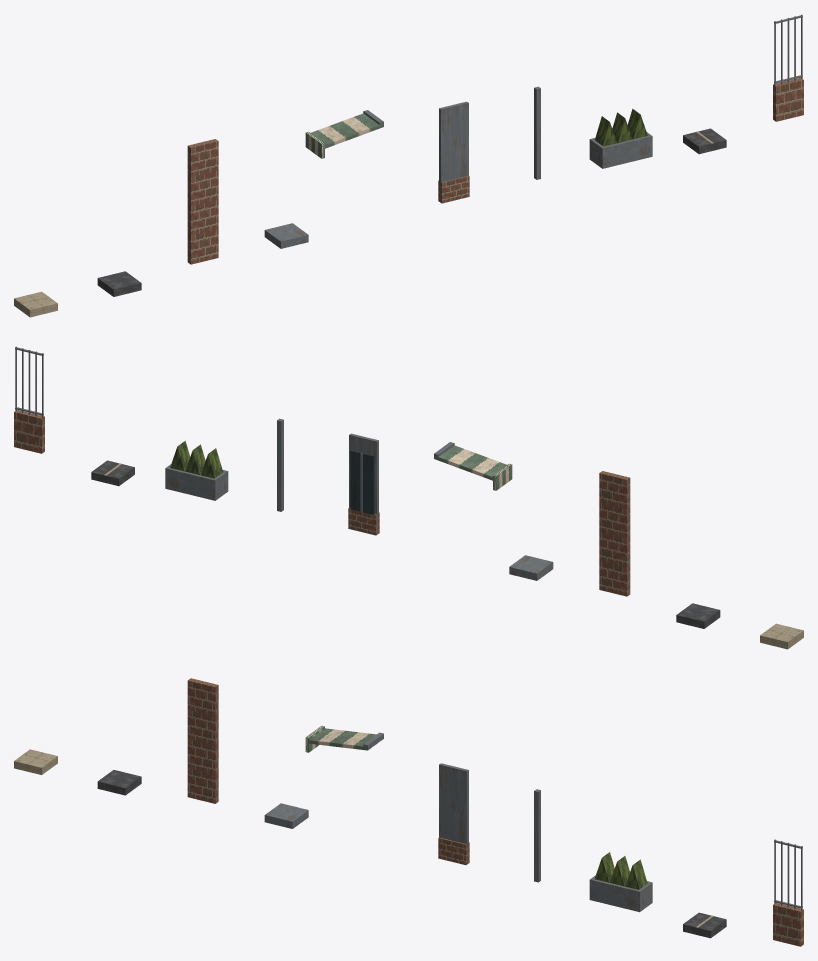
The model's file is gridset.glb.
3 renders of one model, top to bottom at view 1: azimuth 30°, elevation 25°; view 2: azimuth 150°, elevation 25°; view 3: azimuth 330°, elevation 25°, orthographic.
Parts seen in each view (by area): view 1: BrickWall, StoreWindow, Planter, SiteFence, CanvasAwning, Roof, Asphalt, ParkingStripe, Paving, CanopyPost; view 2: BrickWall, StoreWindow, Planter, SiteFence, CanvasAwning, Roof, Asphalt, ParkingStripe, Paving, CanopyPost; view 3: BrickWall, StoreWindow, Planter, SiteFence, CanvasAwning, Roof, Asphalt, Paving, ParkingStripe, CanopyPost.
Part boxes in pixels (box(x1,y1,x2,y2)): BrickWall: box(187, 139, 218, 264); StoreWindow: box(438, 101, 469, 203); Planter: box(589, 108, 652, 168); SiteFence: box(773, 14, 803, 121); CanvasAwning: box(305, 110, 383, 158); Roof: box(264, 223, 308, 248); Asphalt: box(97, 271, 141, 296); ParkingStripe: box(683, 128, 726, 154); Paving: box(14, 291, 57, 317); CanopyPost: box(534, 86, 540, 179); BrickWall: box(599, 471, 630, 596); StoreWindow: box(348, 433, 379, 535); Planter: box(165, 440, 228, 500); SiteFence: box(14, 346, 44, 453); CanvasAwning: box(434, 442, 512, 490); Roof: box(509, 555, 553, 580); Asphalt: box(676, 603, 720, 628); ParkingStripe: box(91, 460, 134, 486); Paving: box(760, 623, 803, 649); CanopyPost: box(277, 418, 283, 511); BrickWall: box(187, 678, 218, 803); StoreWindow: box(438, 763, 469, 864); Planter: box(589, 852, 652, 912); SiteFence: box(773, 839, 803, 946); CanvasAwning: box(305, 725, 383, 752); Roof: box(264, 803, 308, 828); Asphalt: box(97, 770, 141, 795); Paving: box(14, 749, 57, 774); ParkingStripe: box(683, 912, 726, 938); CanopyPost: box(534, 789, 540, 882).
Bounding box in the file's own units: 28 × 4.25 × 1.
1 material, 1 textured.
